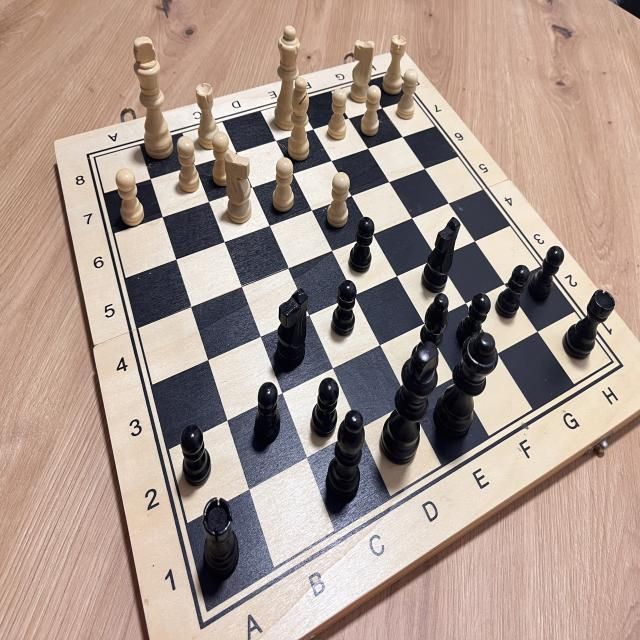black-bishop: (318, 404, 367, 516), (411, 288, 451, 390)
black-king: (375, 331, 443, 472)
black-knight: (268, 279, 312, 369), (414, 211, 463, 290)
black-pawn: (304, 368, 344, 444), (176, 417, 217, 490), (456, 286, 495, 356), (493, 256, 533, 324), (528, 241, 568, 308), (250, 374, 286, 446), (326, 274, 358, 342), (348, 212, 375, 278)
black-queen: (430, 322, 505, 463)
black-rook: (559, 278, 618, 374), (192, 489, 246, 581)
white-bishop: (282, 69, 315, 170)
white-king: (127, 27, 178, 177)
white-knight: (224, 146, 255, 233), (346, 34, 379, 112)
white-pawn: (110, 162, 148, 231), (170, 129, 206, 199), (204, 126, 239, 192), (265, 152, 299, 217), (324, 168, 353, 234), (392, 66, 422, 128), (324, 87, 352, 146), (359, 82, 384, 144)
white-queen: (267, 18, 311, 138)
white-rook: (191, 79, 228, 156), (379, 29, 413, 102)
